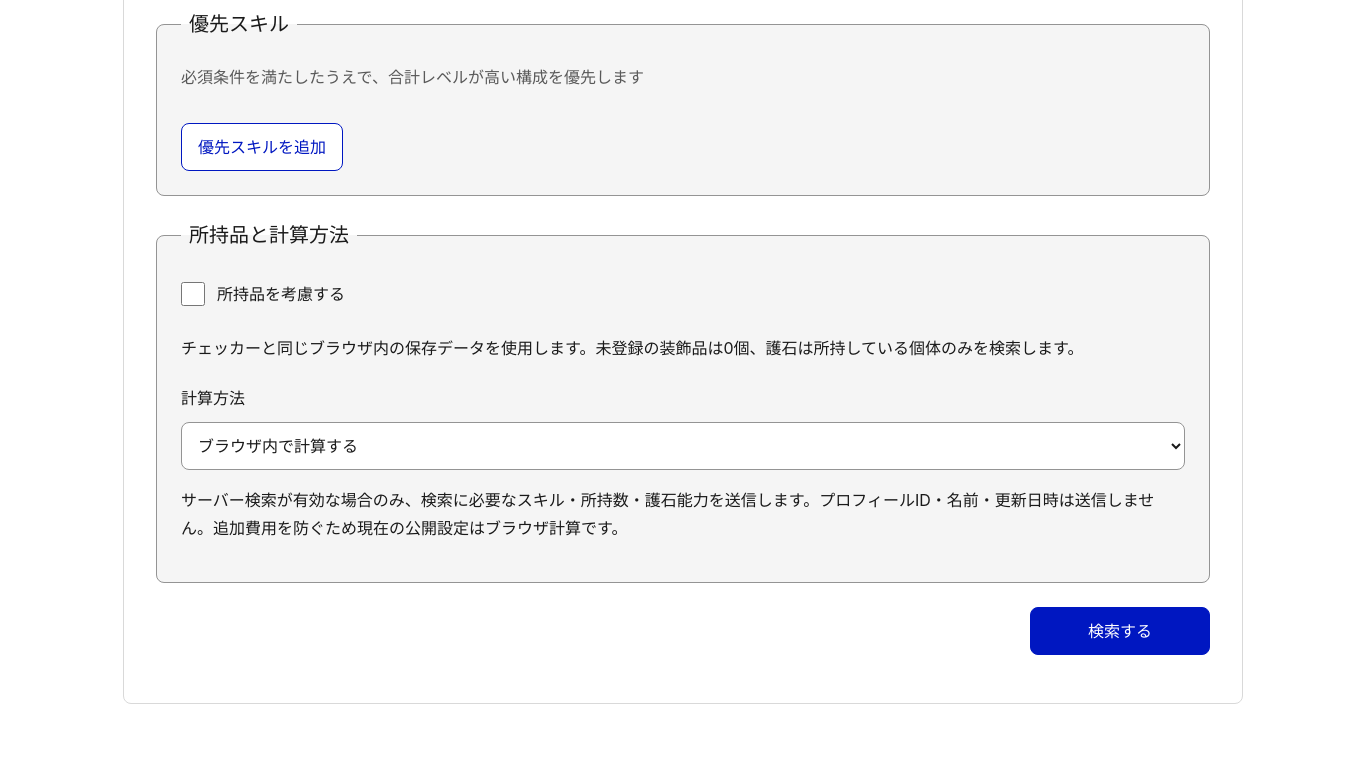
Test: search states and results › renders every timeout, exhausted, and result-limit status
This screenshot has width=1366, height=758.
(page scrolled)
Click the button "検索する": (1120, 631) x1=1030 y1=607 x2=1210 y2=655
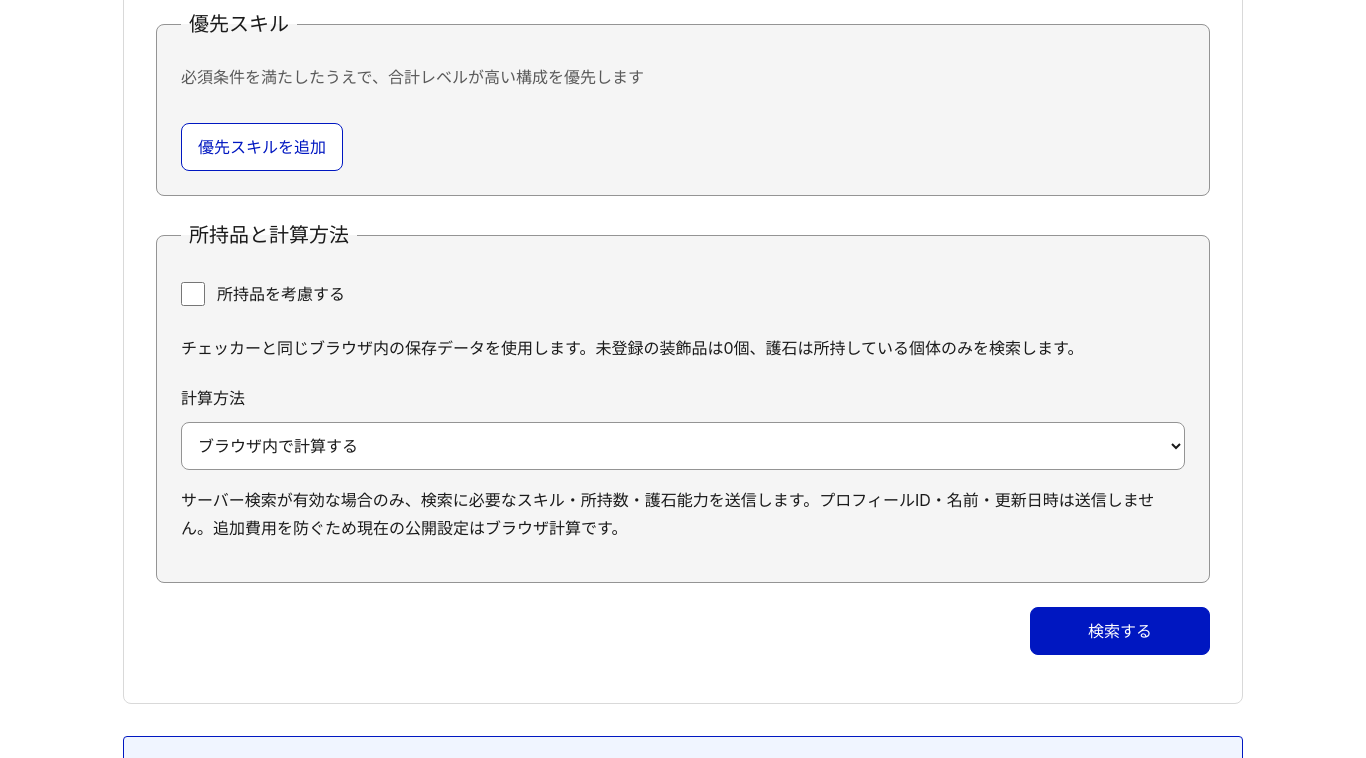
Click the button "検索する": (1120, 631) x1=1030 y1=607 x2=1210 y2=655
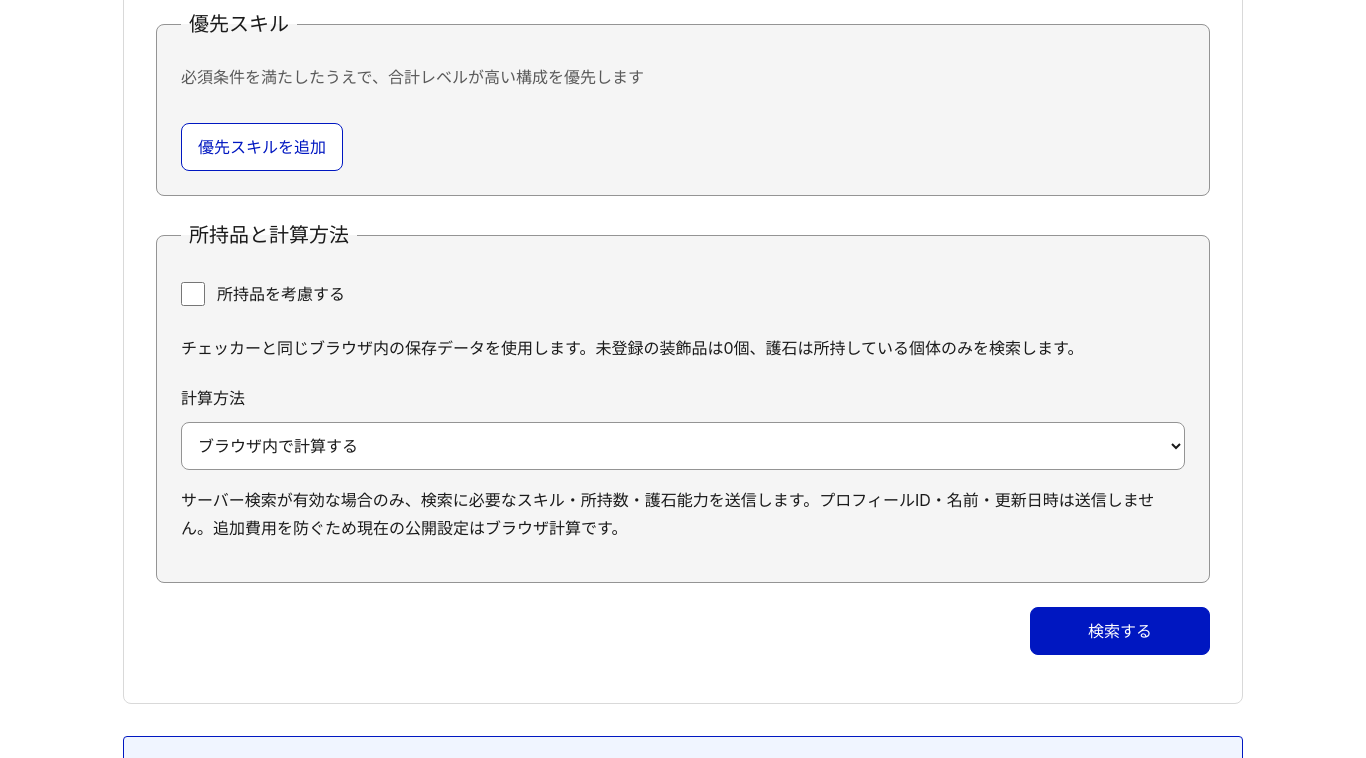
Click the button "検索する": (1120, 631) x1=1030 y1=607 x2=1210 y2=655
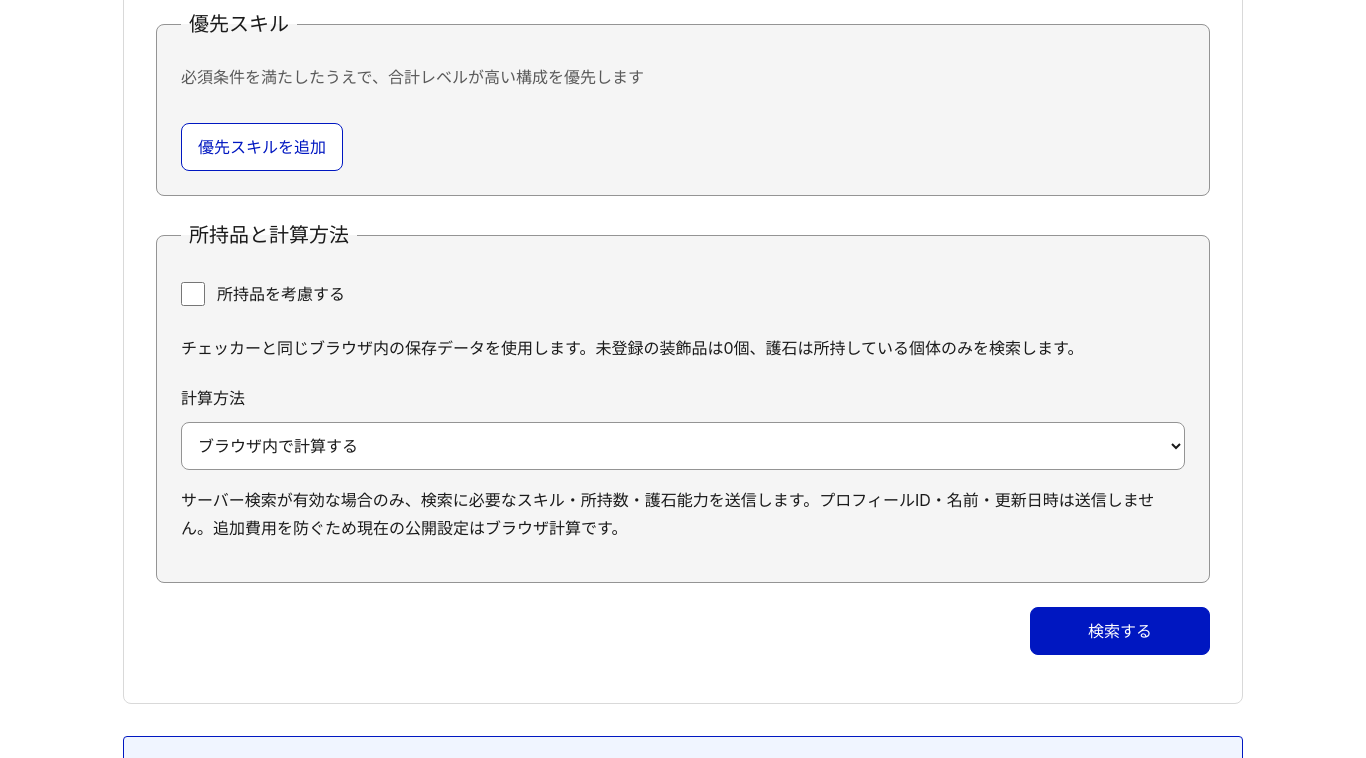
Click the button "検索する": (1120, 631) x1=1030 y1=607 x2=1210 y2=655
(page scrolled)
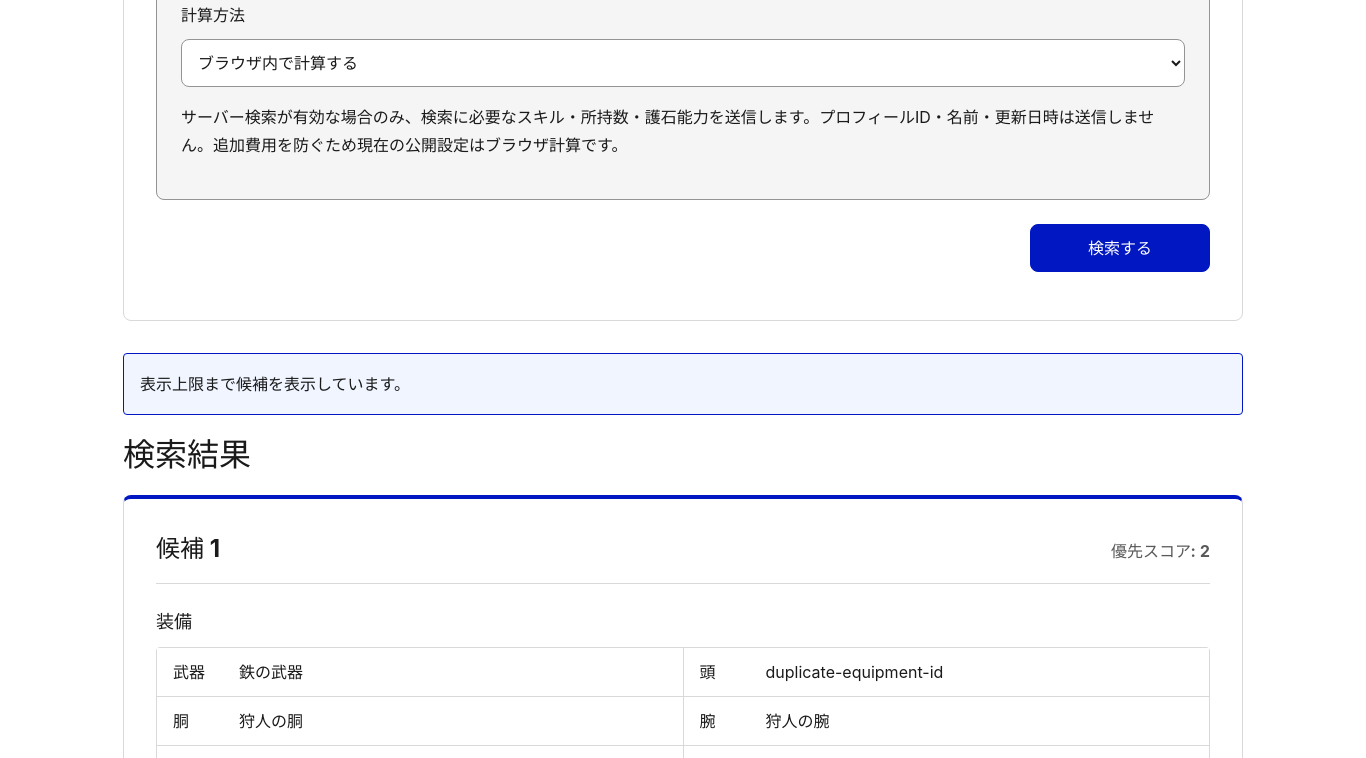
expect the text "表示上限まで候補を表示しています。" is shown: met, box x1=123 y1=353 x2=1243 y2=415
